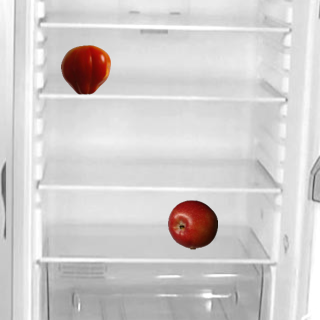Apple Braeburn: (167, 199, 217, 249)
Tomato 1: (60, 44, 110, 94)
